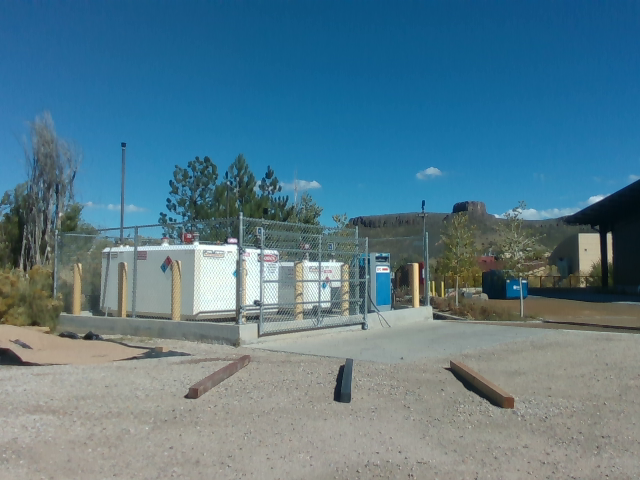dunnage: (185, 350, 522, 413)
